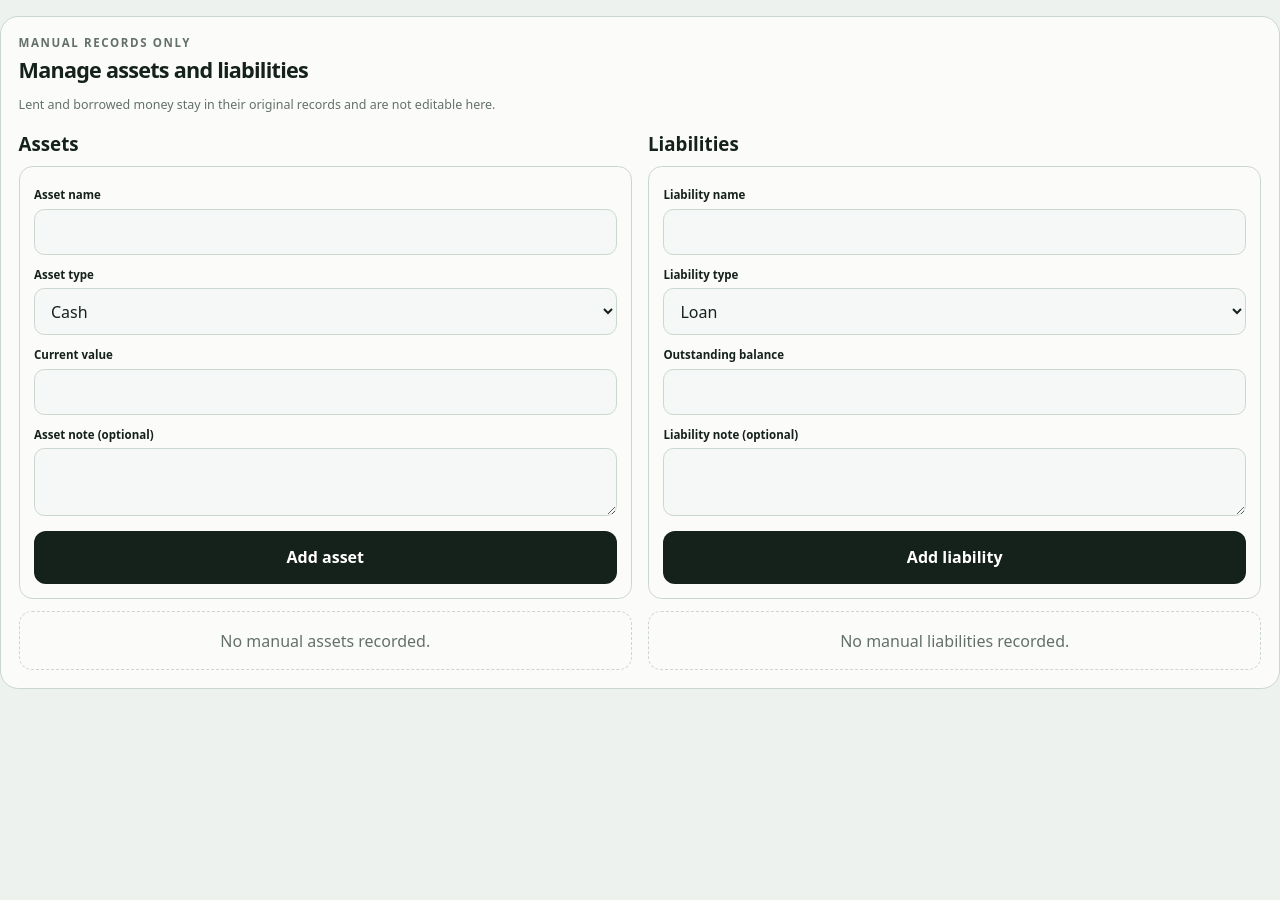
Scenario: NetWorthEditor › creates a liability using the exact server enum and balance field
Type "Home loan" into the field labelled "Liability name".
click(955, 232); type("Home loan")  # box [663,209,1246,255]
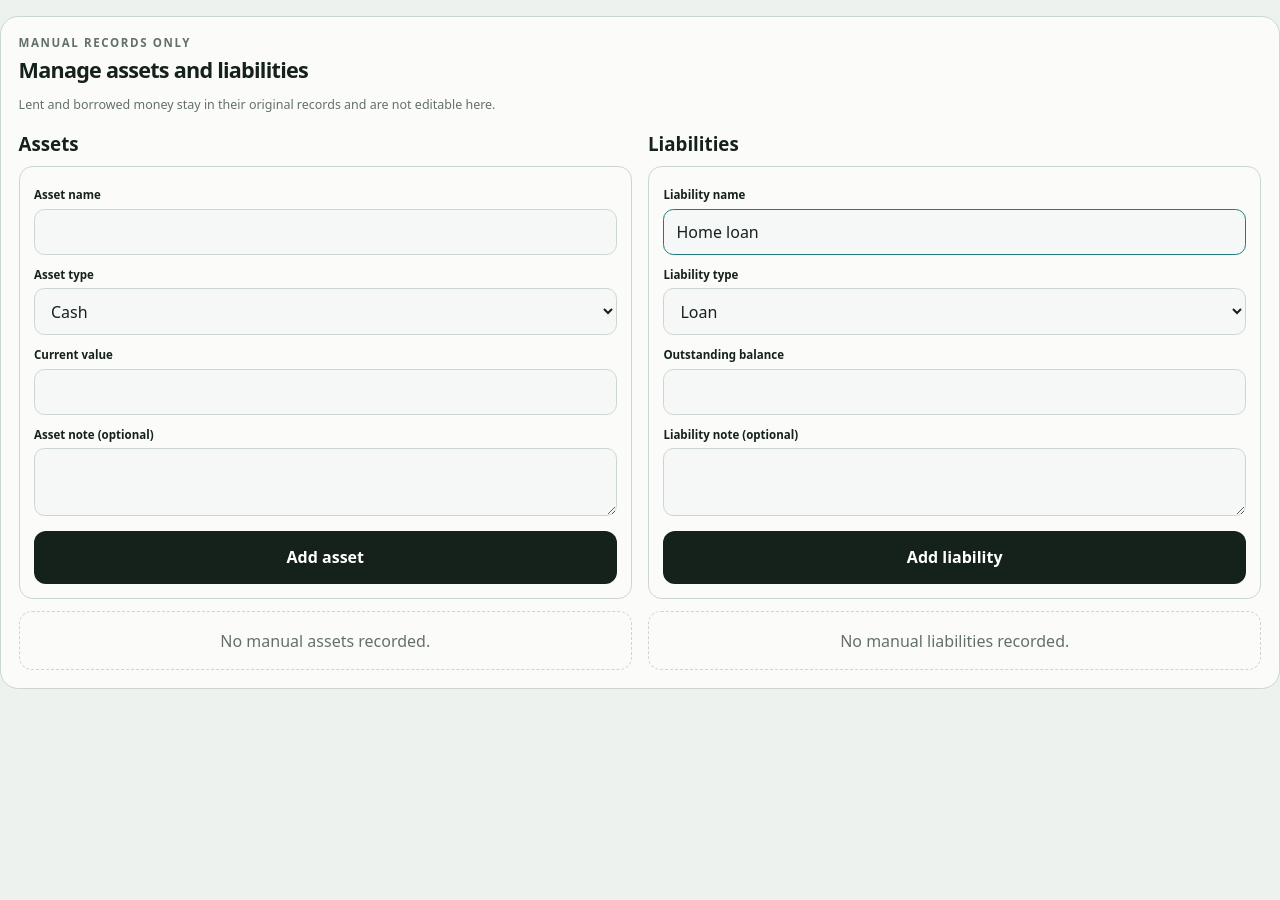
Select "Mortgage" in the dropdown labelled "Liability type" at coordinates (955, 312), box [663,288,1246,335]
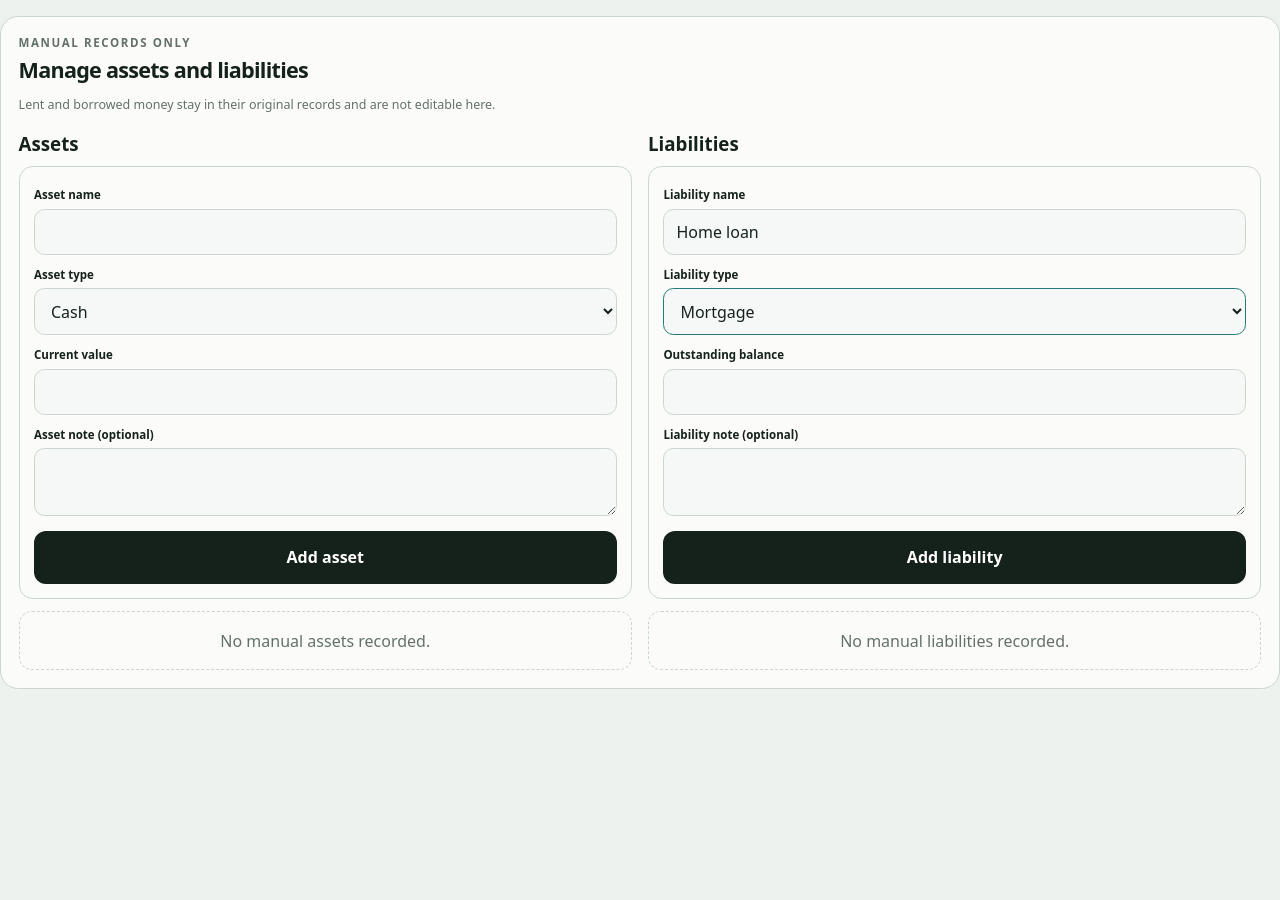
Type "750000" into the field labelled "Outstanding balance".
click(955, 392); type("750000")  # box [663,369,1246,415]
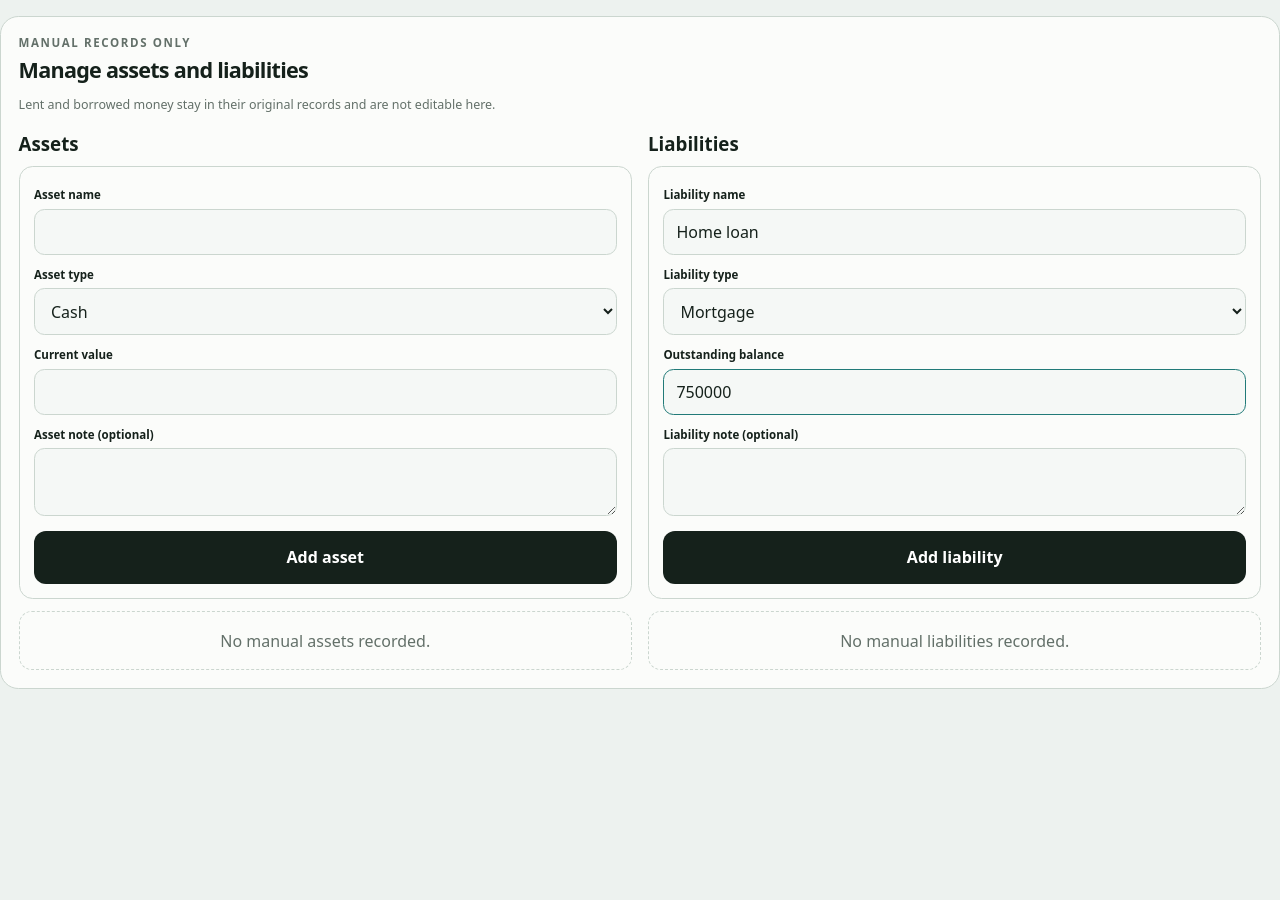
Type "Fixed rate" into the text box labelled "Liability note (optional)".
click(955, 482); type("Fixed rate")  # box [663,448,1246,516]
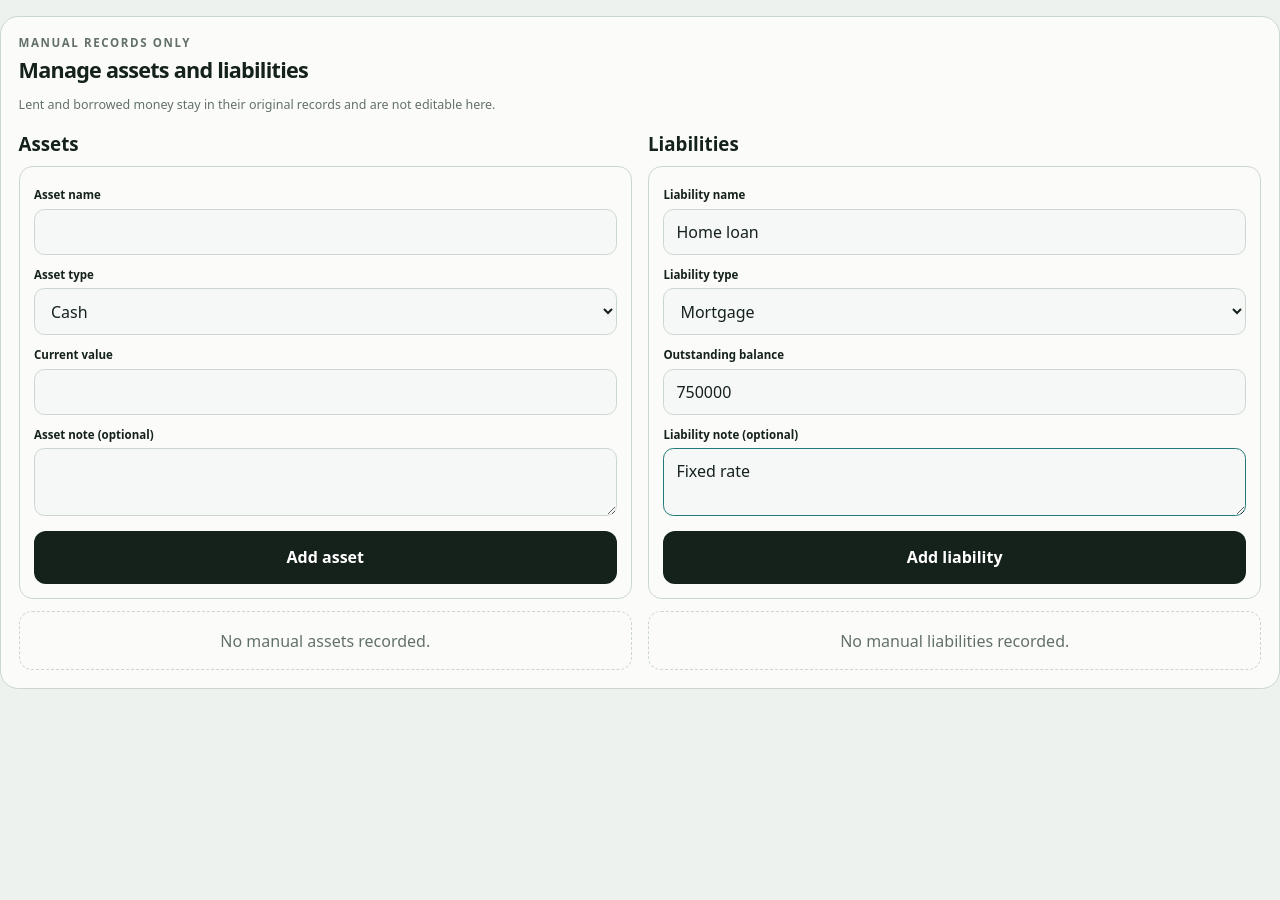
Click the button "Add liability".
click(955, 557)  # box [663,531,1246,584]
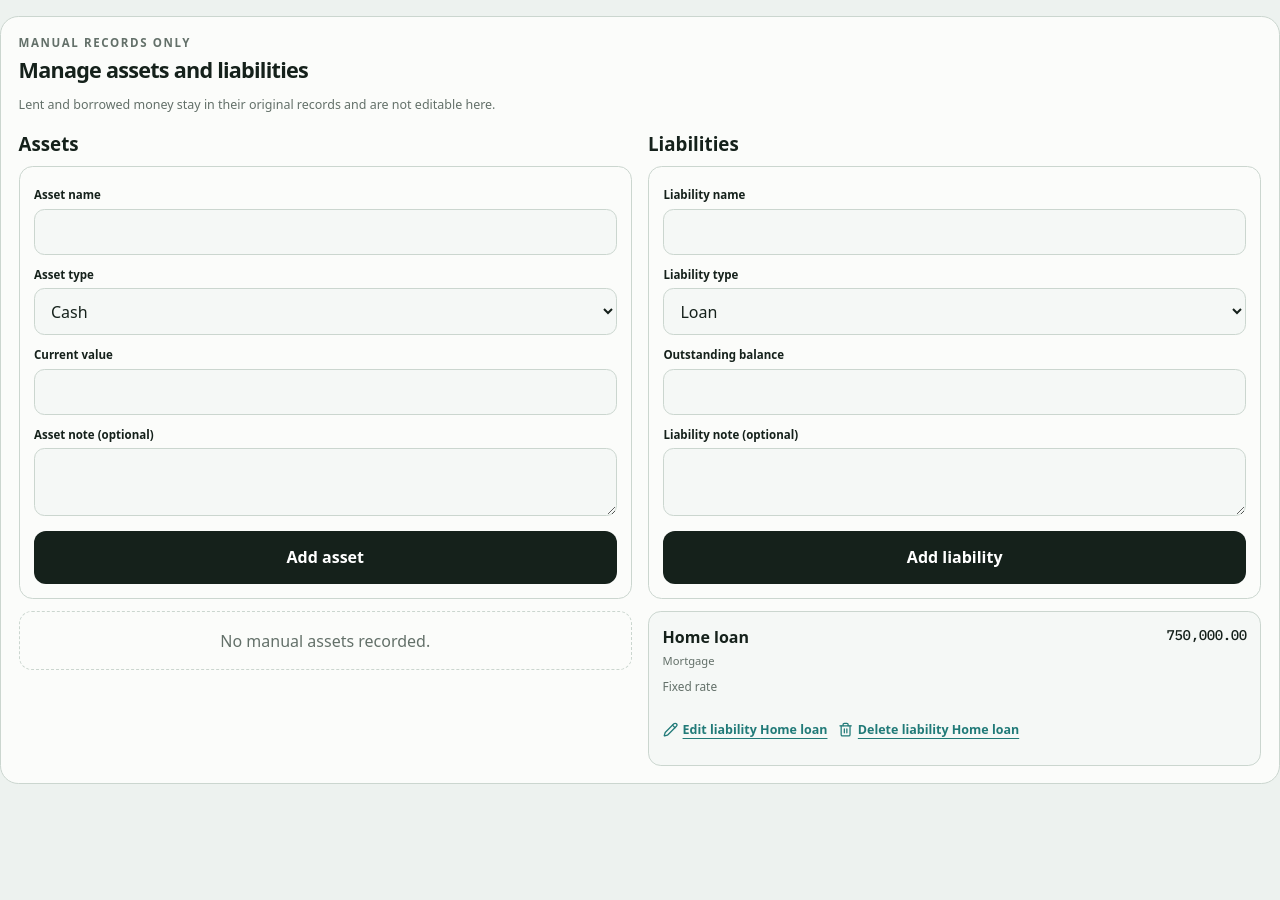
Expected: the field labelled "Liability name" is empty, [663,209,1246,255]
Expected: the heading "Home loan" is shown, [663,626,749,648]
